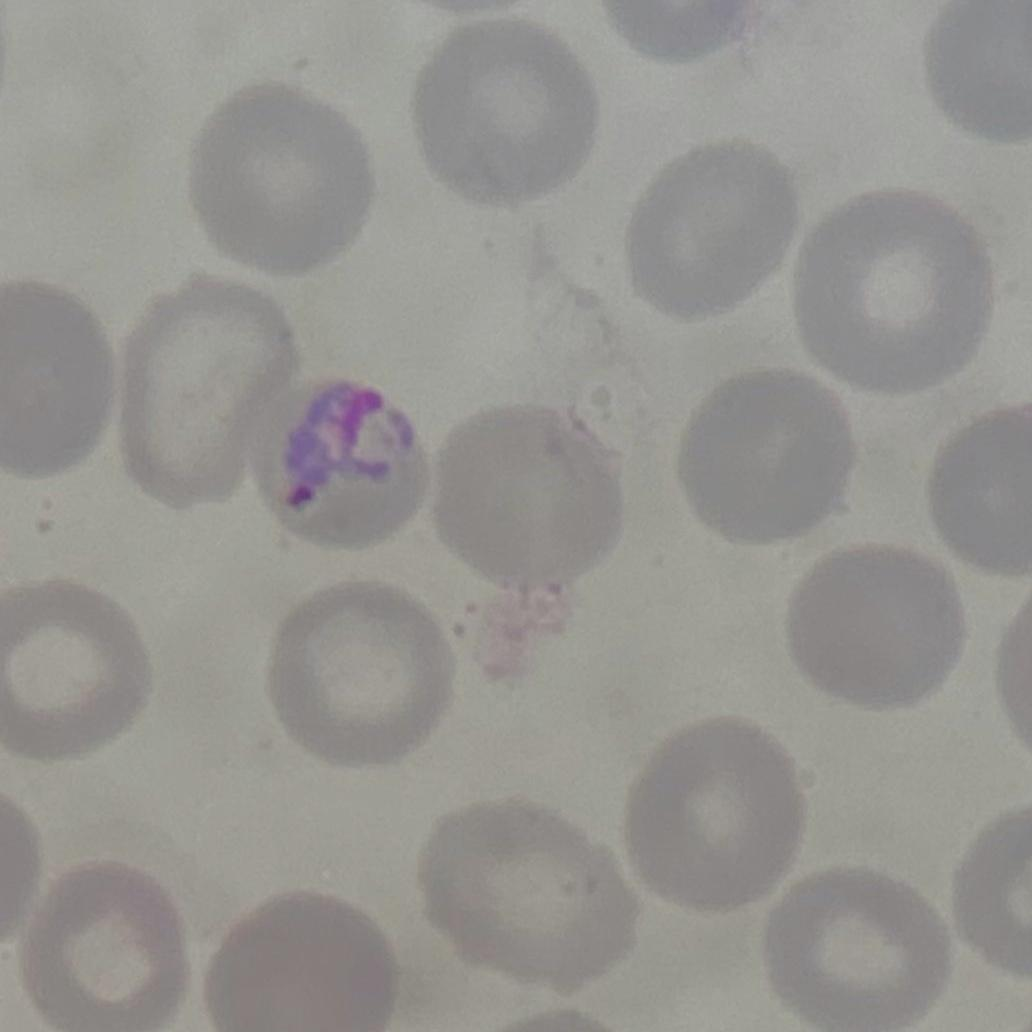Infected: (253, 378, 428, 550)
Uninfected: (113, 278, 293, 509), (798, 183, 995, 394), (423, 796, 638, 989), (262, 586, 457, 766), (632, 708, 810, 902), (195, 78, 373, 269), (415, 21, 602, 197), (442, 406, 622, 582), (620, 138, 795, 315), (678, 366, 853, 534), (770, 863, 943, 1032), (787, 548, 972, 701), (30, 861, 195, 1032), (0, 586, 150, 771), (208, 893, 398, 1032), (0, 283, 108, 484), (930, 396, 1032, 569)
